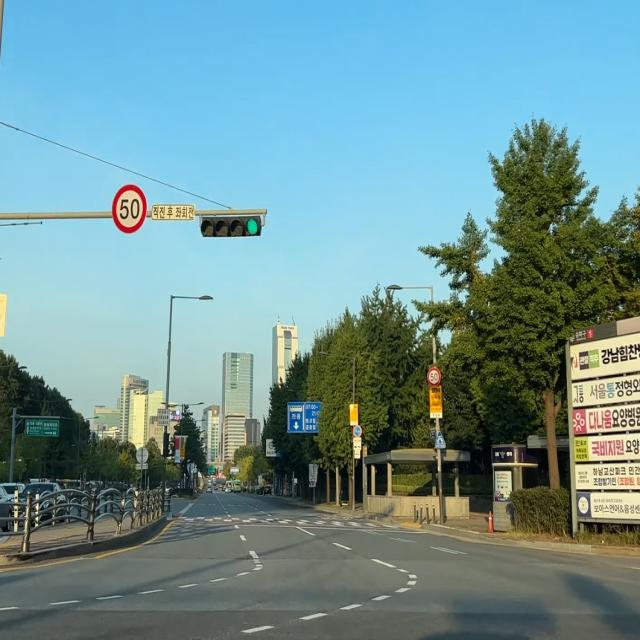Green Light: (246, 215, 259, 237)
